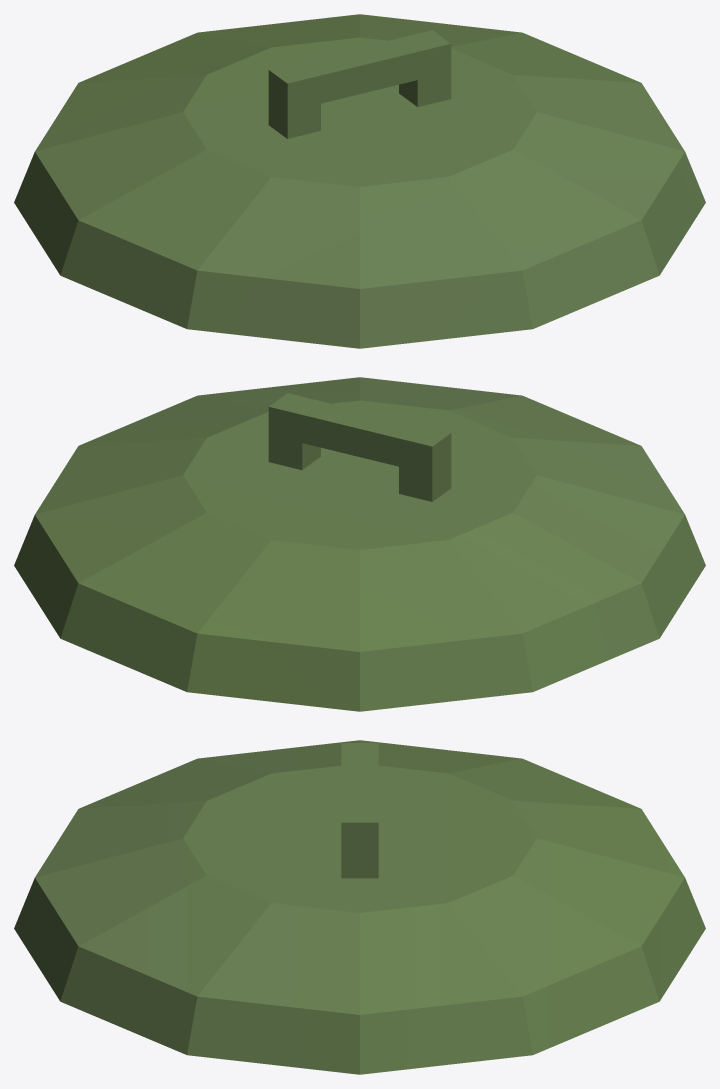
File: Trash_01_2.fbx
3 renders of one model, top to bottom at view 1: azimuth 30°, elevation 25°; view 2: azimuth 150°, elevation 25°; view 3: azimuth 270°, elevation 25°, orthographic.
Visible parts, largest first — view 1: Trash_01_2; view 2: Trash_01_2; view 3: Trash_01_2.
Boxes of the visible parts, box(x1,y1,x2,y2) form: Trash_01_2: box(14, 14, 705, 348); Trash_01_2: box(14, 377, 705, 711); Trash_01_2: box(14, 740, 705, 1074).
Bounding box in the file's own units: 0.6452 × 0.1499 × 0.6452.
